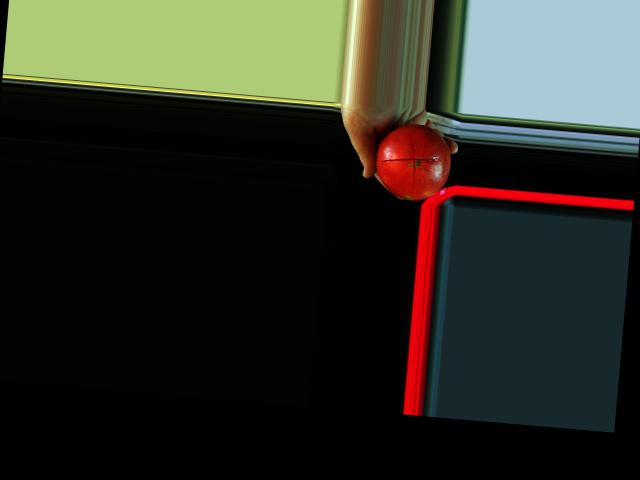tomato: (372, 120, 455, 203)
